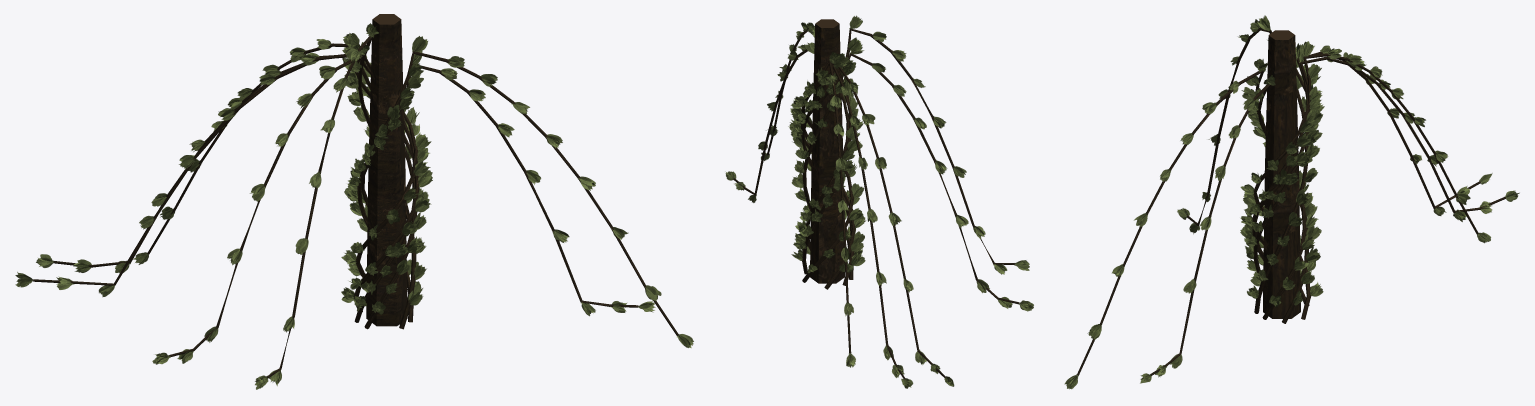
File: liana_cluster_v02.glb
The picture shows the model from 3 angles, left to right: view 1: azimuth 30°, elevation 25°; view 2: azimuth 150°, elevation 25°; view 3: azimuth 270°, elevation 25°; orthographic projection. The views are drawn at different scales.
Parts seen in each view (by area): view 1: liana_cluster_v02; view 2: liana_cluster_v02; view 3: liana_cluster_v02.
Part boxes in pixels (box(x1,y1,x2,y2)): liana_cluster_v02: box(15, 14, 693, 389); liana_cluster_v02: box(725, 15, 1033, 388); liana_cluster_v02: box(1064, 15, 1519, 389).
Size of the model in its own units: 2.3 by 1.49 by 2.16.
Materials: 2 (2 with a texture image).
